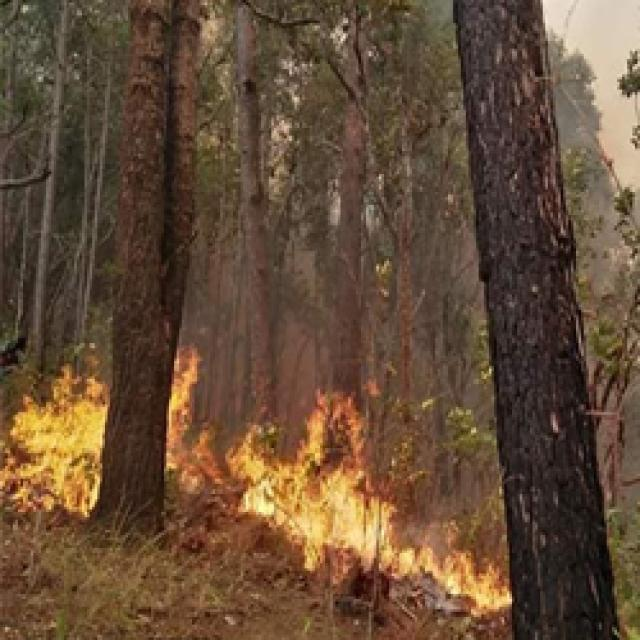Fire: (232, 377, 518, 618), (0, 340, 138, 540), (152, 324, 264, 506)
Smoke: (178, 5, 420, 393), (374, 92, 508, 428), (539, 0, 640, 298)
